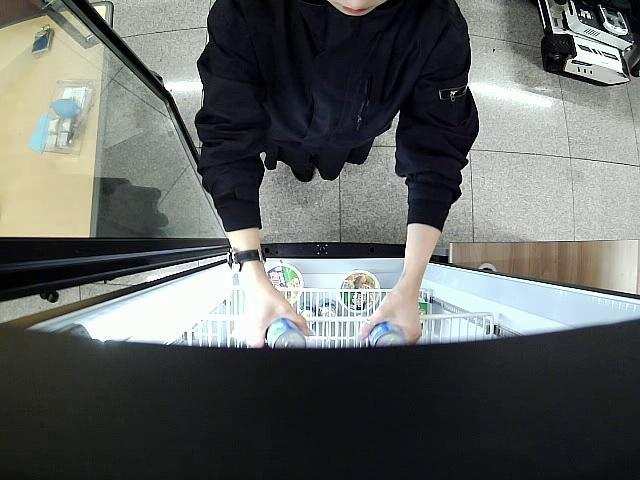15_letsbe: (266, 318, 306, 352), (368, 322, 408, 348)
